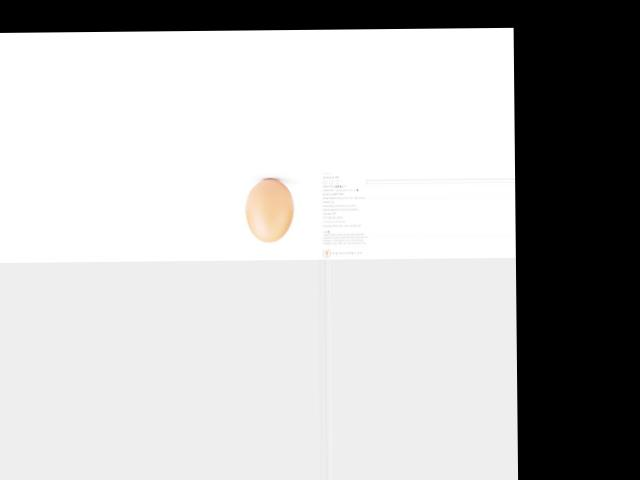egg: (245, 178, 294, 242)
